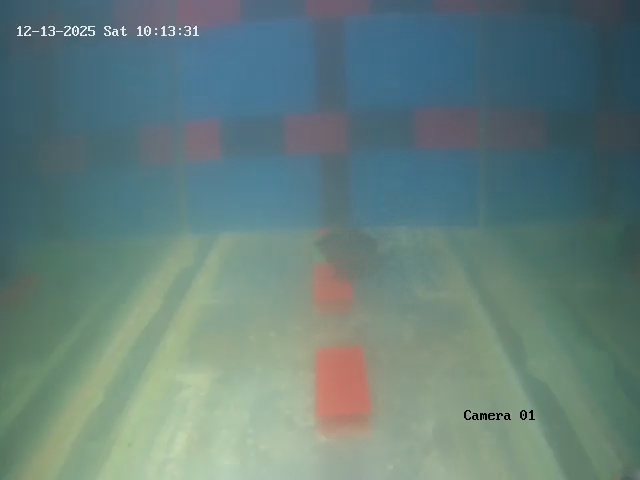fish: (315, 223, 384, 276)
